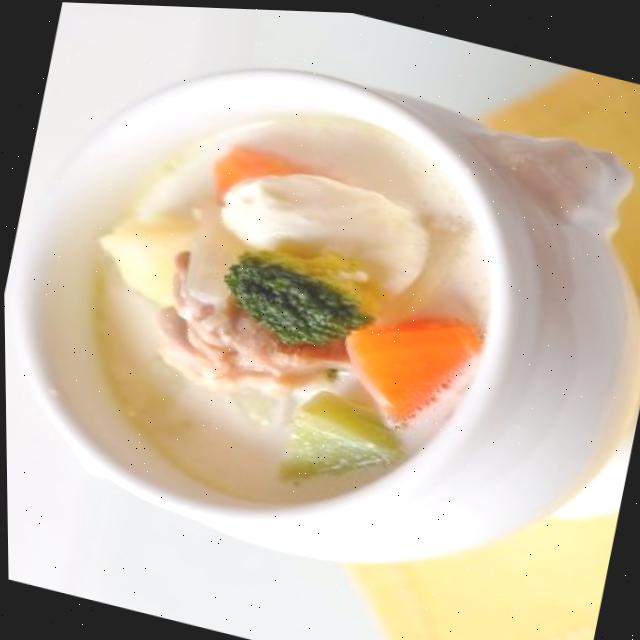汤锅炖物: (13, 26, 554, 572)
